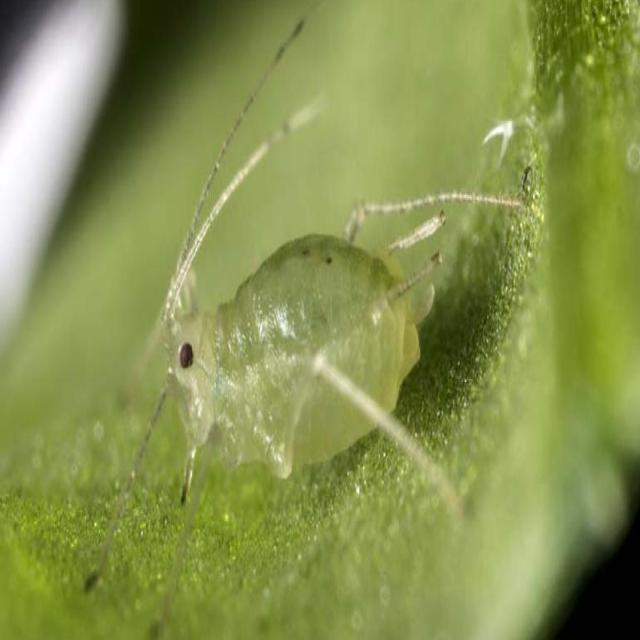Aphids: (135, 147, 471, 551)
